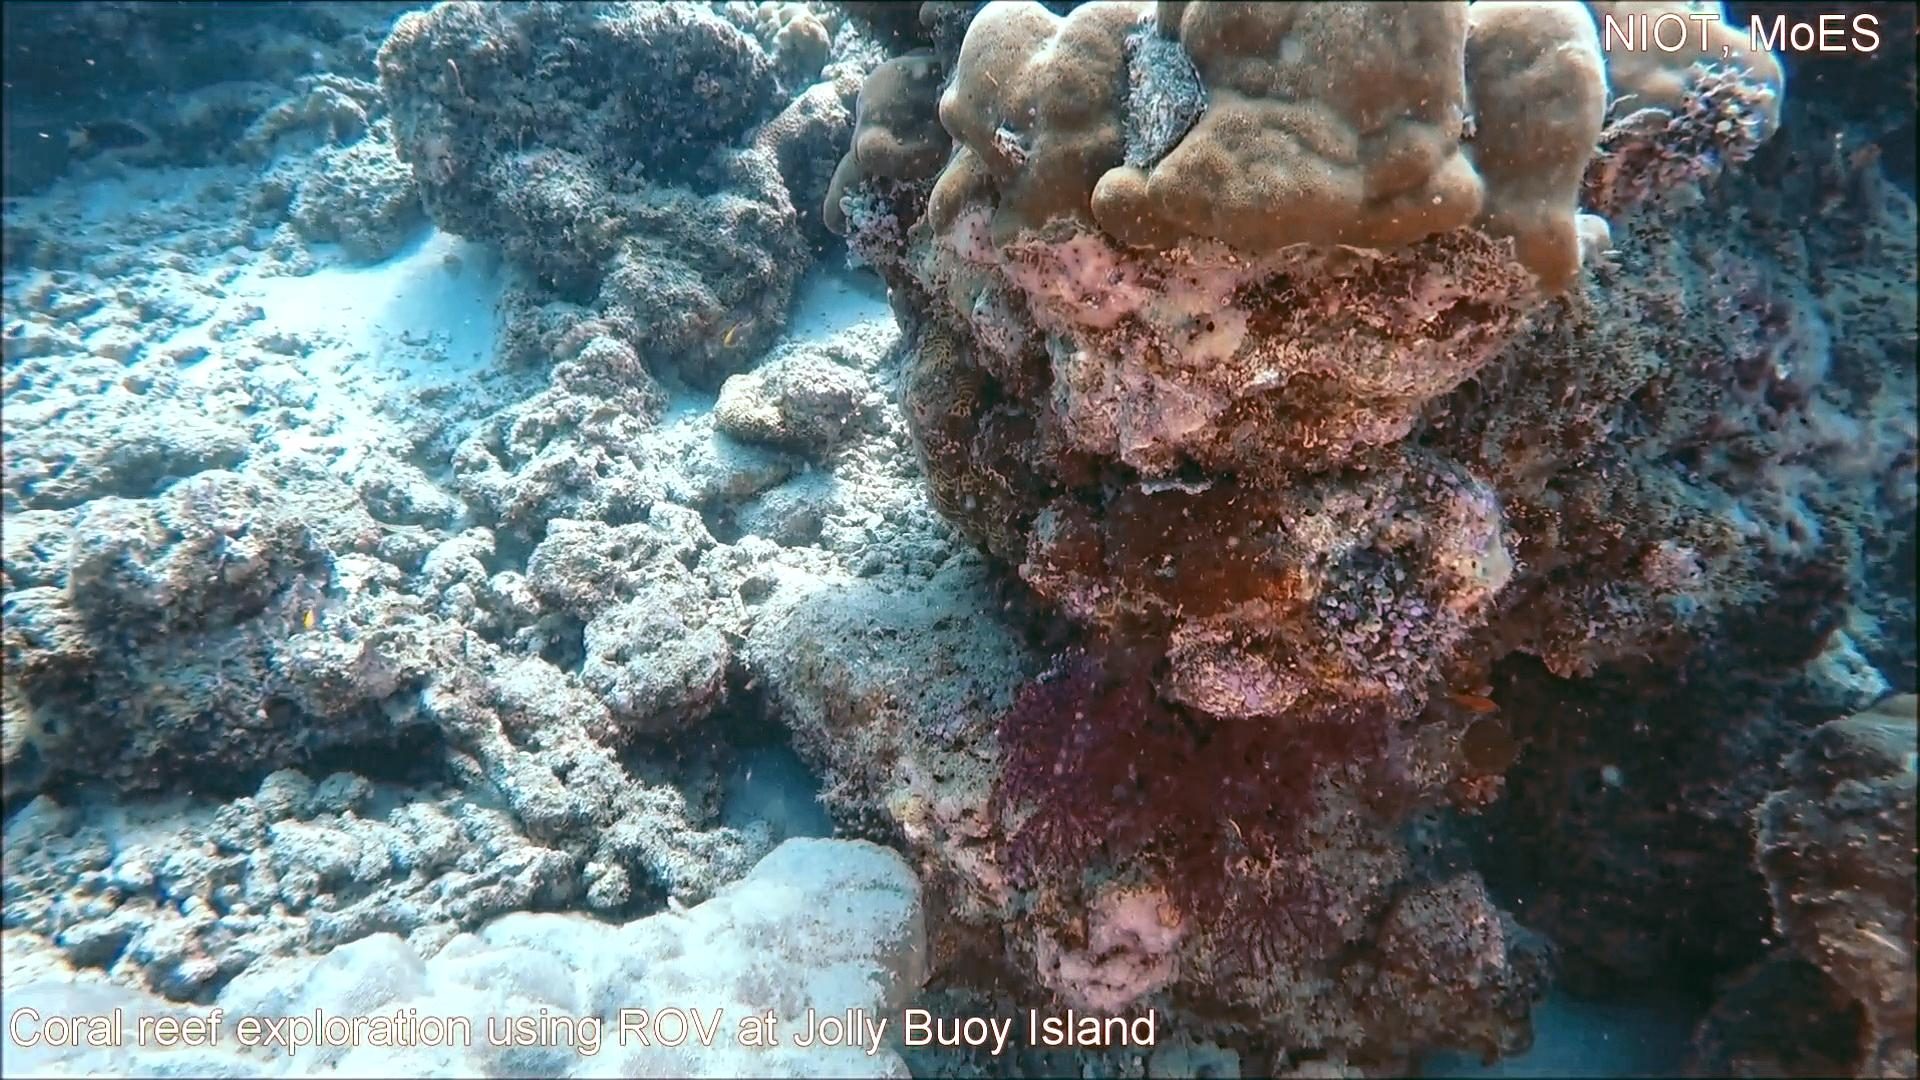Gorgonian-Purple Plexaura: (978, 649, 1398, 989)
Porites-Porites pukoensis: (920, 0, 1611, 302), (262, 827, 936, 1080)
